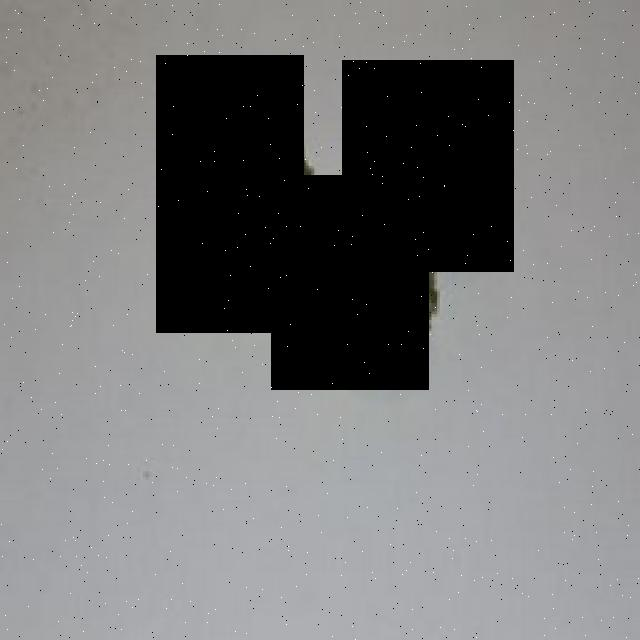Tomato: (156, 55, 304, 333), (342, 60, 514, 272), (271, 175, 429, 390)
